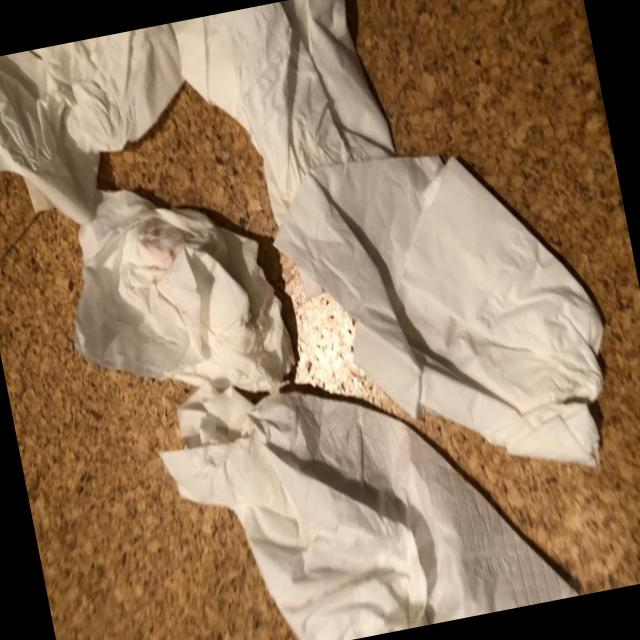organic waste: (249, 106, 634, 521), (149, 319, 578, 640), (49, 162, 302, 428), (173, 0, 409, 247), (0, 22, 209, 246)
